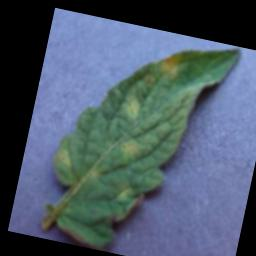Leaf_Mold: (156, 48, 183, 80), (48, 144, 75, 175), (116, 134, 143, 161), (121, 95, 143, 122)
